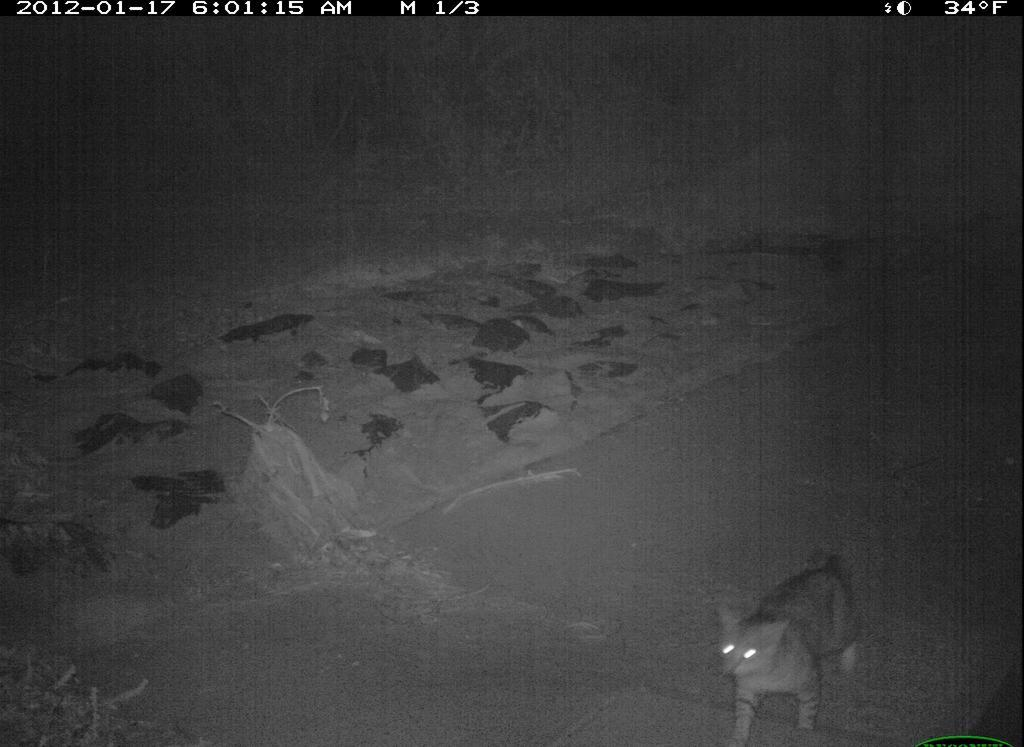cat: (707, 537, 879, 747)
